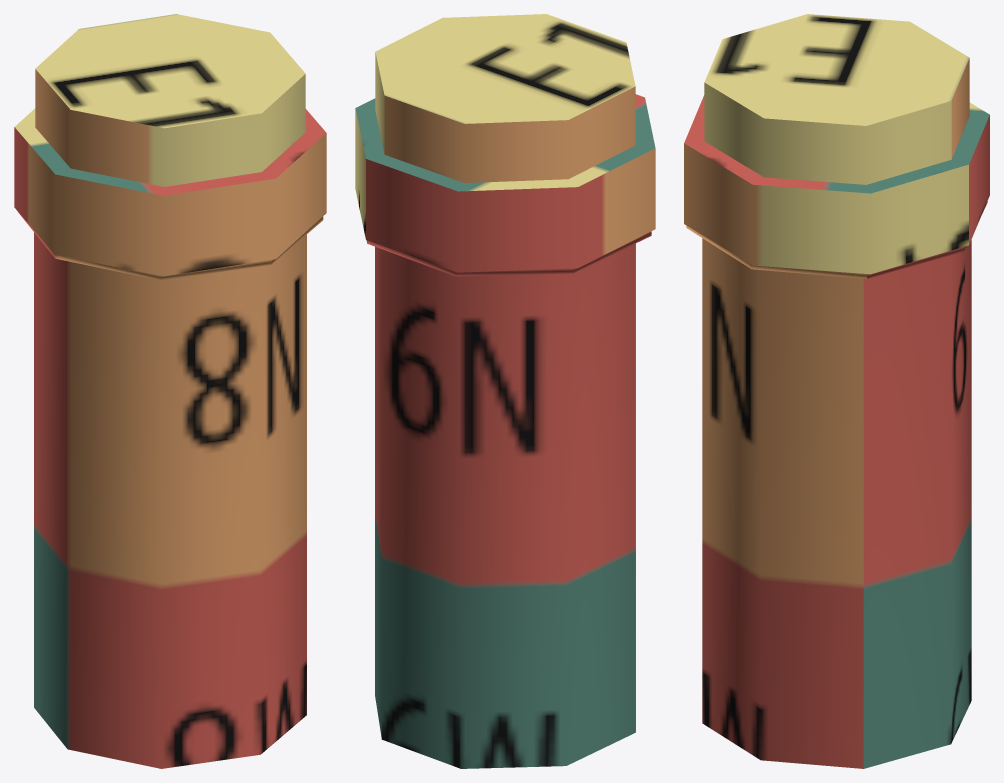
File: SM_Botlle_S_01b.fbx
3 views of the same model, side by side, from view 1: azimuth 30°, elevation 25°; view 2: azimuth 150°, elevation 25°; view 3: azimuth 270°, elevation 25° (orthographic).
Visible parts, largest first — view 1: SM_Botlle_S_01b; view 2: SM_Botlle_S_01b; view 3: SM_Botlle_S_01b.
Part boxes in pixels (x1,y1,x2,y2): SM_Botlle_S_01b: [14, 14, 326, 768]; SM_Botlle_S_01b: [355, 14, 655, 768]; SM_Botlle_S_01b: [684, 14, 989, 768].
Bounding box in the file's own units: 3.31 × 7.67 × 3.31.
Materials: 1 (1 with a texture image).
